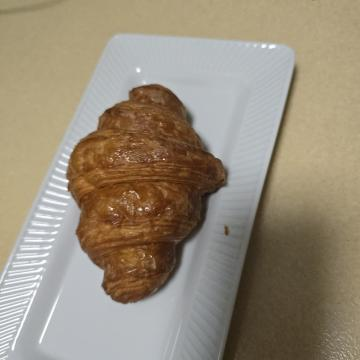croissant: (69, 126, 321, 304)
